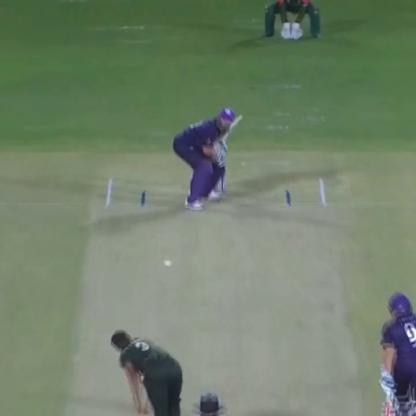ball: (161, 258, 177, 268)
bat: (214, 103, 246, 150)
pitch: (67, 162, 370, 416)
